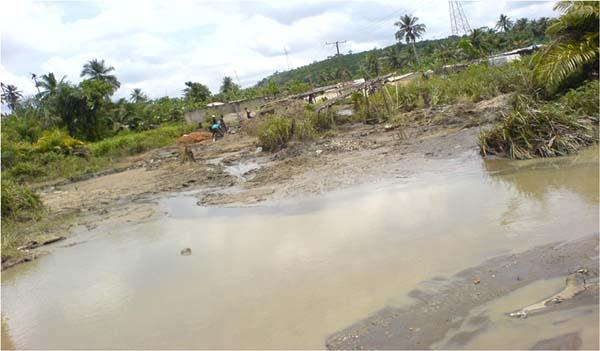Person: (208, 121, 224, 140), (219, 115, 227, 133), (243, 107, 253, 120), (211, 114, 218, 124)
Structure: (317, 75, 391, 124), (183, 92, 267, 126), (283, 82, 341, 107), (498, 45, 546, 60), (488, 53, 524, 68)
